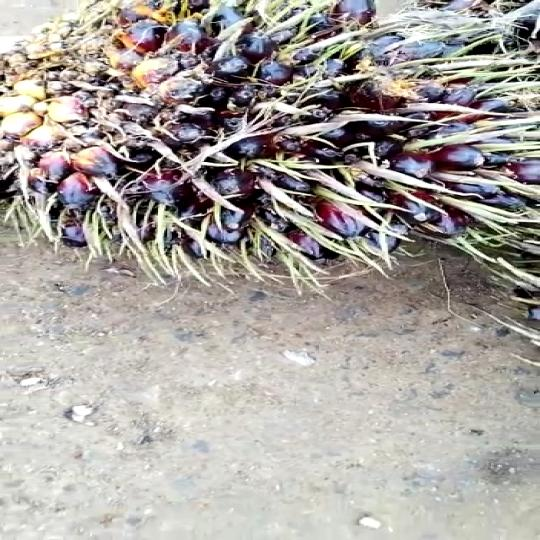mentah: (6, 0, 517, 271)
